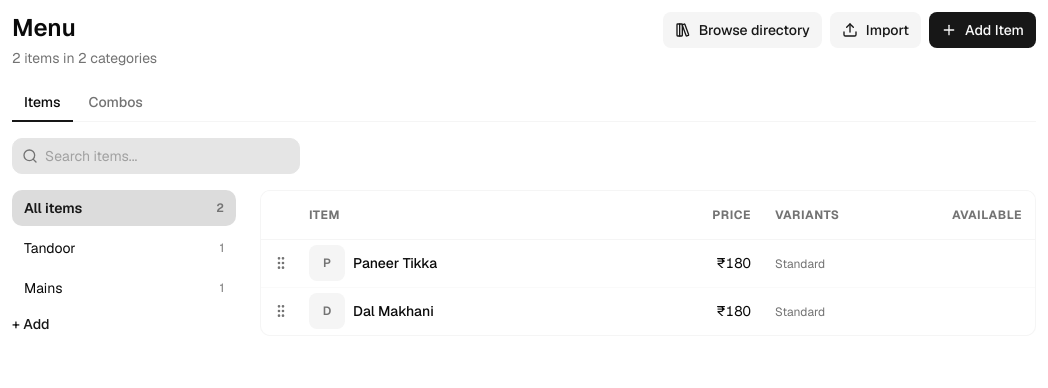
Test: MenuManagement list › shows the filtered-empty state (not the true-empty state) when filters match nothing
Check: the table with test id "menu-table" is shown, box [261, 191, 1035, 335]
Type "nonexistent item" into the search field with test id "menu-search" at (156, 156), box [12, 138, 300, 174]
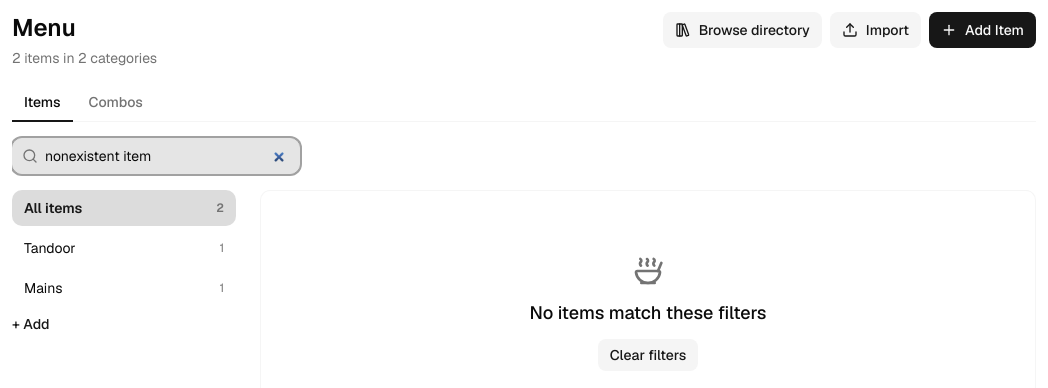
Check: the element with test id "menu-filtered-empty" is shown, box [530, 299, 766, 371]
